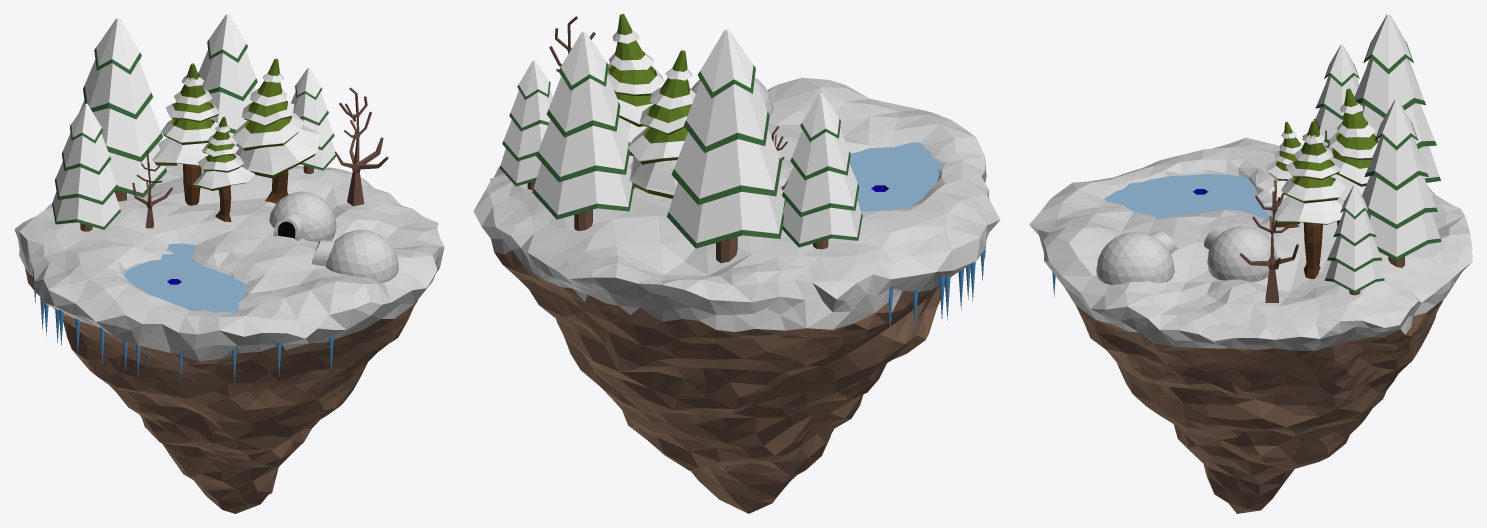
The model's file is winter-island.glb.
The picture shows the model from 3 angles, left to right: view 1: azimuth 30°, elevation 25°; view 2: azimuth 150°, elevation 25°; view 3: azimuth 270°, elevation 25°; orthographic projection. The views are drawn at different scales.
Visible parts, largest first — view 1: Cone, Circle.001_0.001, Object_4, Circle.001_0, Plane.001_Plane.002, Object_4.002, Circle.001_0.002, Icosphere, Object_4.001, Icosphere.001, Circle.001_0.003, Tree 2.002_TreeLog_1_0 (+3 smaller); view 2: Cone, Circle.001_0.001, Circle.001_0.002, Circle.001_0, Object_4.002, Plane.001_Plane.002, Circle.001_0.003, Object_4, Cone.012_Cone.015; view 3: Cone, Circle.001_0.002, Circle.001_0.001, Object_4, Plane.001_Plane.002, Circle.001_0.003, Icosphere, Icosphere.001, Object_4.002, Circle.001_0, Object_4.001, Tree 2.002_TreeLog_1_0 (+1 smaller).
Part boxes in pixels (box(x1,y1,x2,y2)): Cone: box(14, 163, 444, 513); Circle.001_0.001: box(79, 18, 166, 201); Object_4: box(232, 58, 319, 203); Circle.001_0: box(52, 103, 120, 231); Plane.001_Plane.002: box(124, 243, 246, 312); Object_4.002: box(152, 63, 220, 205); Circle.001_0.002: box(198, 14, 257, 145); Icosphere: box(311, 230, 398, 282); Object_4.001: box(193, 116, 254, 221); Icosphere.001: box(269, 191, 336, 242); Circle.001_0.003: box(291, 67, 336, 173); Tree 2.002_TreeLog_1_0: box(334, 87, 388, 206); Cone: box(473, 77, 1000, 513); Circle.001_0.001: box(667, 29, 785, 263); Circle.001_0.002: box(532, 31, 633, 230); Circle.001_0: box(782, 93, 862, 249); Object_4.002: box(628, 50, 695, 198); Plane.001_Plane.002: box(785, 142, 942, 211); Circle.001_0.003: box(499, 60, 552, 189); Object_4: box(607, 14, 663, 188); Cone.012_Cone.015: box(888, 241, 986, 332); Cone: box(1029, 137, 1472, 513); Circle.001_0.002: box(1362, 98, 1441, 267); Circle.001_0.001: box(1354, 14, 1440, 182); Object_4: box(1266, 120, 1345, 278); Plane.001_Plane.002: box(1104, 174, 1271, 218); Circle.001_0.003: box(1324, 185, 1384, 295); Icosphere: box(1096, 231, 1177, 284); Icosphere.001: box(1204, 225, 1277, 281); Object_4.002: box(1328, 88, 1379, 226); Circle.001_0: box(1315, 44, 1359, 147); Object_4.001: box(1255, 121, 1303, 227); Tree 2.002_TreeLog_1_0: box(1239, 179, 1298, 302).
Bounding box in the file's own units: 12.74 × 14.68 × 12.58.
